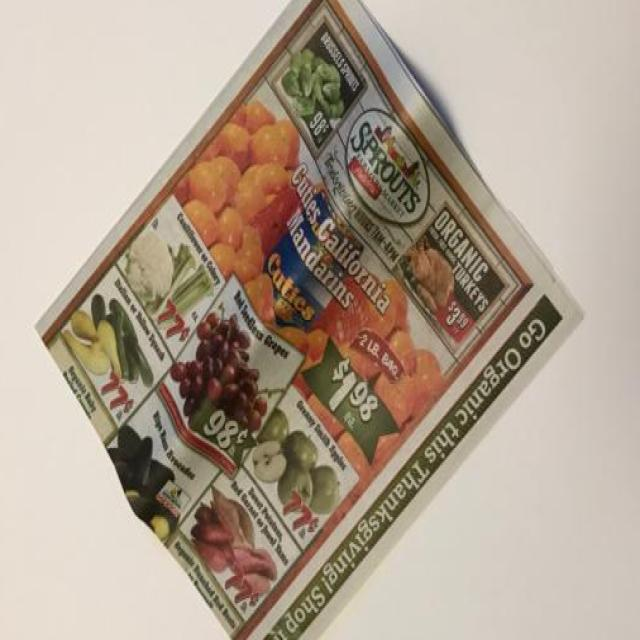kertas: (31, 0, 589, 640)
